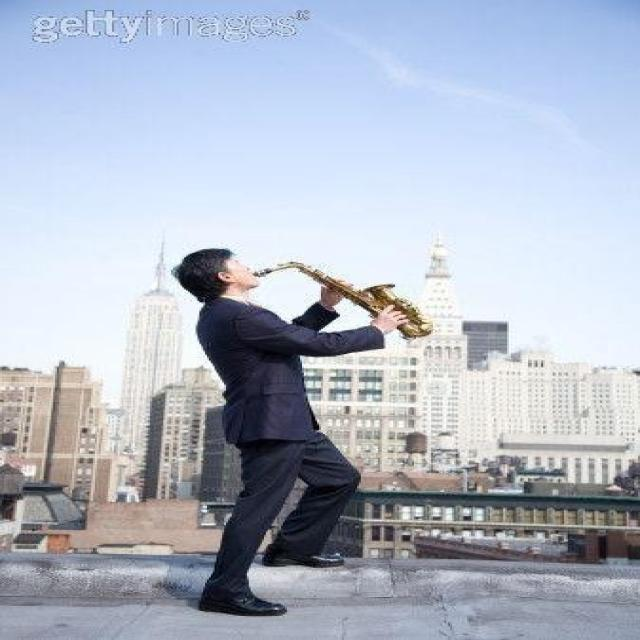saxophone: (247, 258, 438, 346)
